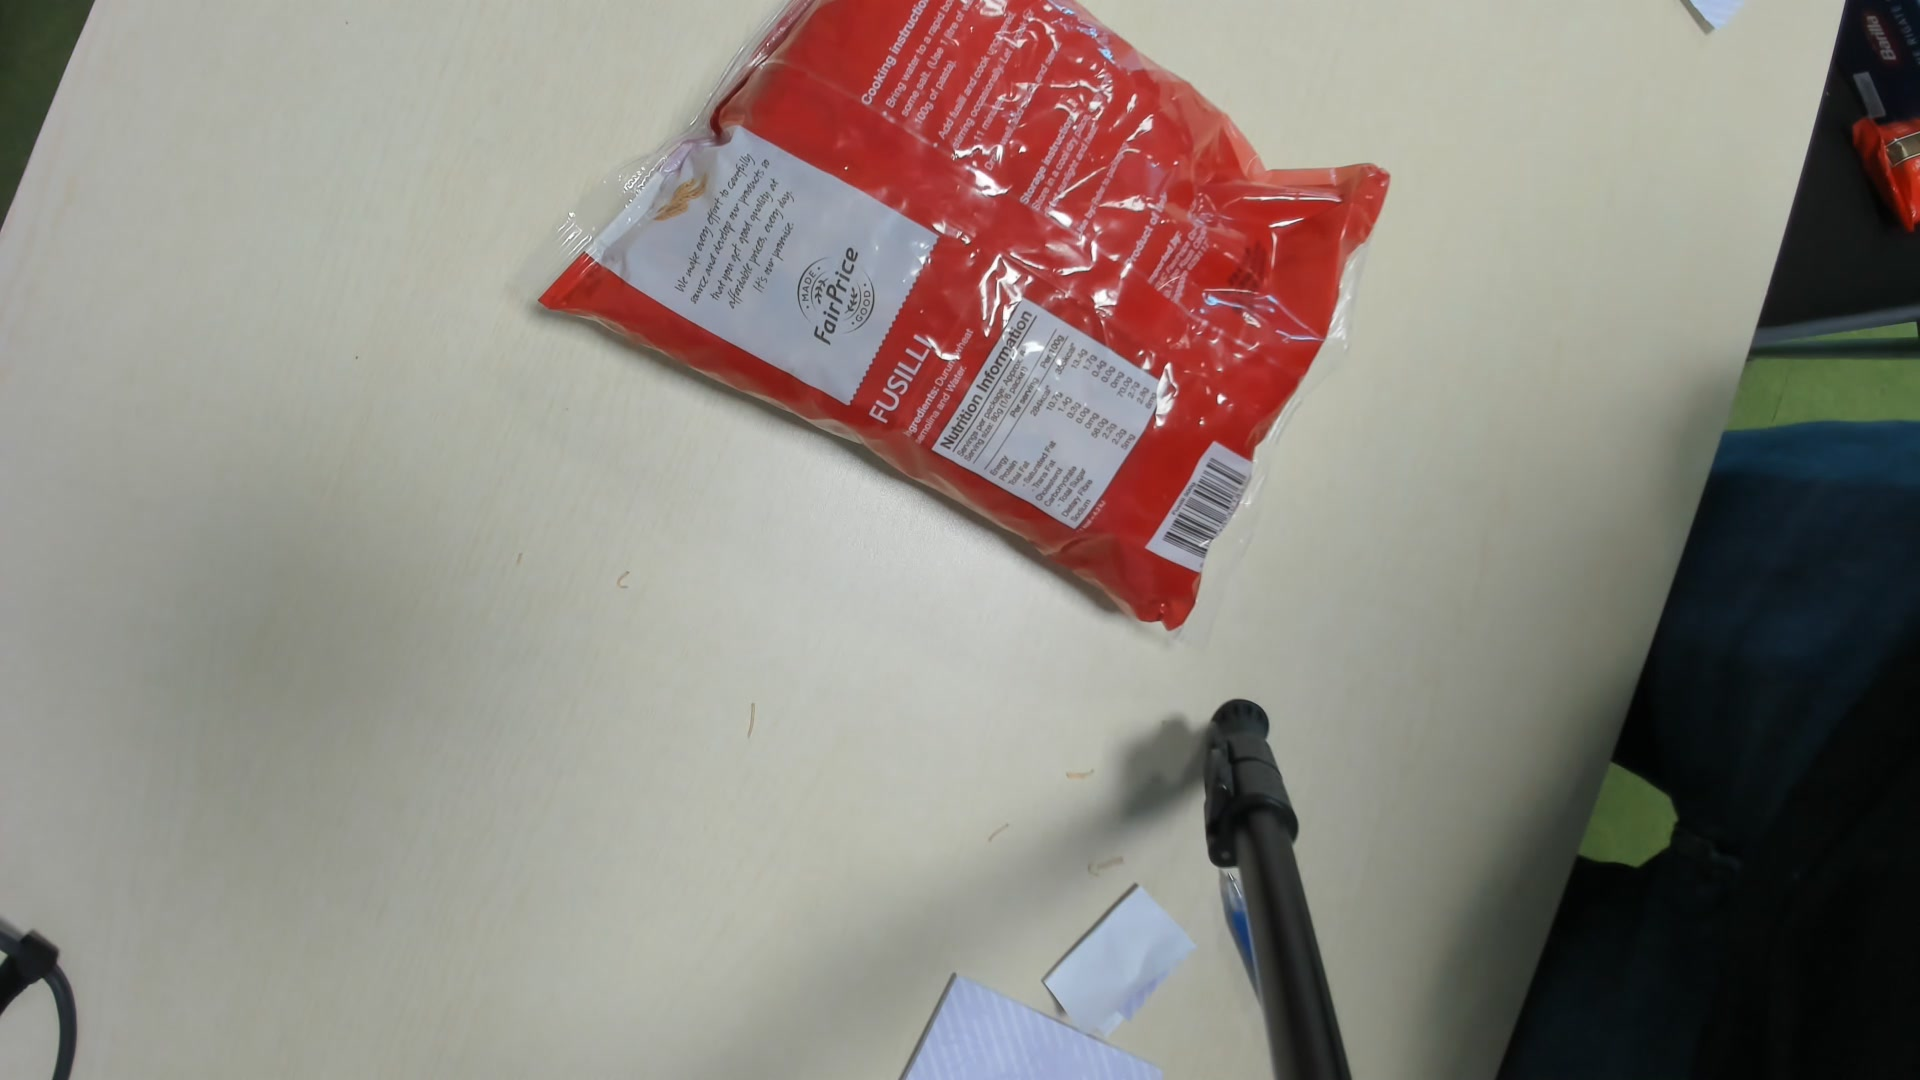Pasta_500-599g_Halal_NonHealthy: (524, 5, 1395, 641)
